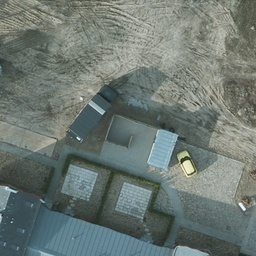car: (176, 149, 198, 180)
